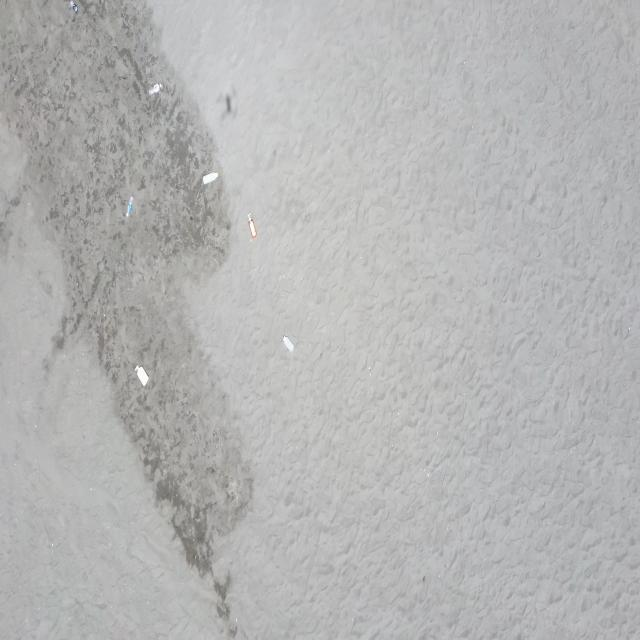plastic-bottle: (134, 363, 150, 387), (247, 212, 257, 240), (203, 170, 220, 186), (282, 335, 296, 354), (125, 195, 136, 218), (148, 81, 162, 96), (69, 0, 79, 13)
